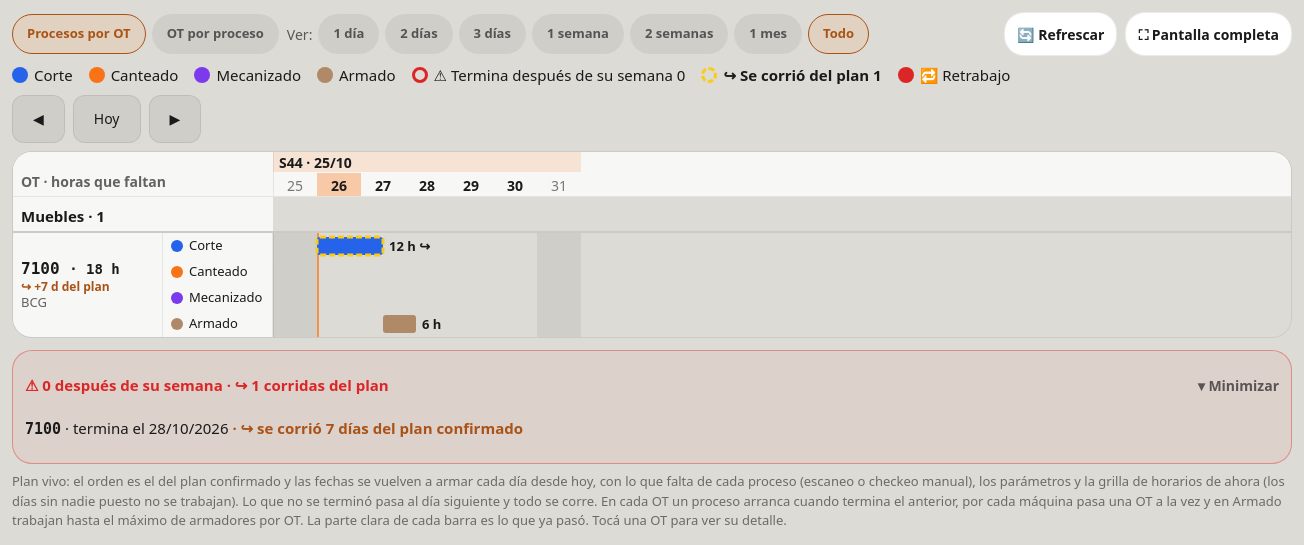
Test: 📅 Gantt — barra para moverse: Hoy, ◀ ▶ y el deslizador
Expected: the button "Hoy" is shown, left=73, top=94, right=140, bottom=142
Click the button "1 semana". click: (578, 34)
box: left=532, top=14, right=624, bottom=54
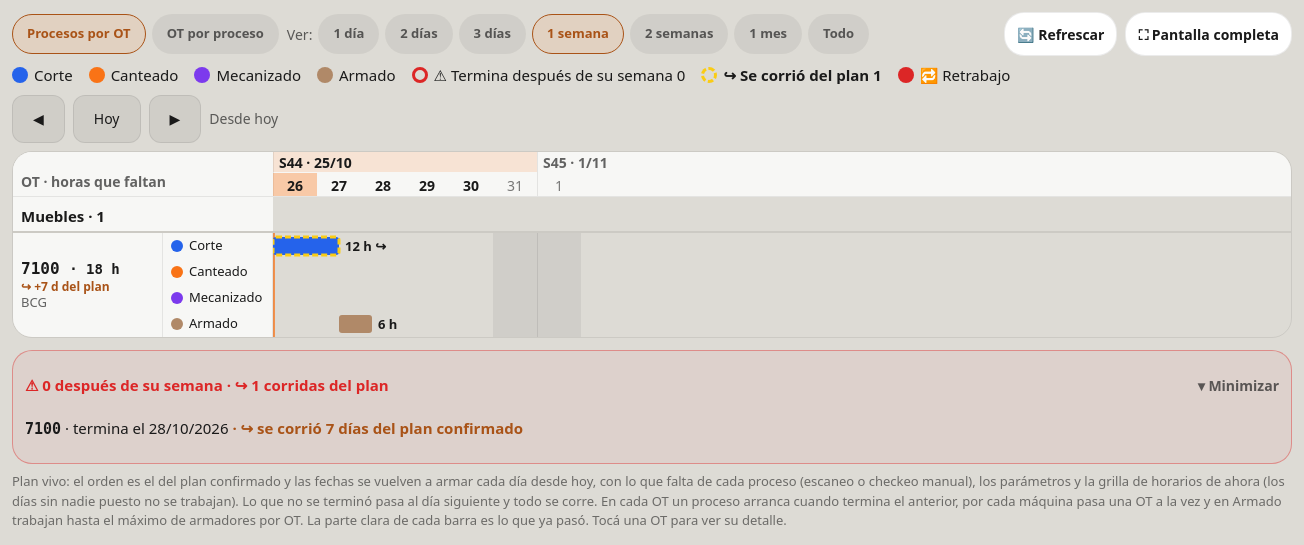
Result: the element named "Moverse en el Gantt" shows "Desde hoy" at left=209, top=109, right=278, bottom=128
Click the button named "Ver antes". click: (38, 118)
box: left=12, top=94, right=65, bottom=142
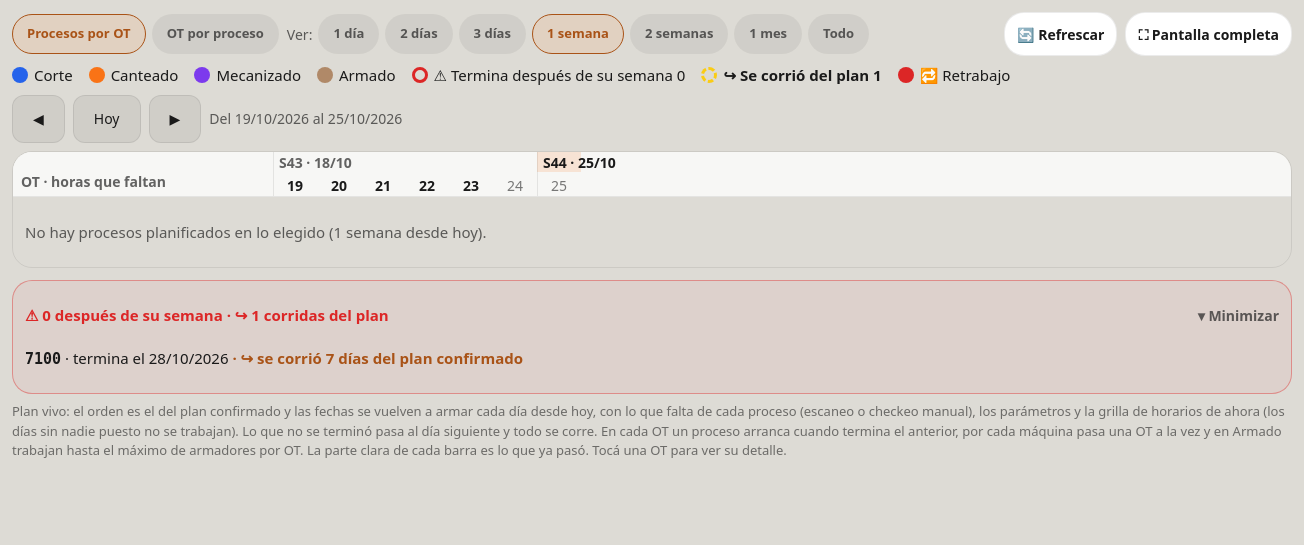
Result: the element named "Moverse en el Gantt" shows "Del 19/10/2026 al 25/10/2026" at left=209, top=109, right=402, bottom=128
Click the button "Hoy". click: (107, 118)
box: left=73, top=94, right=140, bottom=142
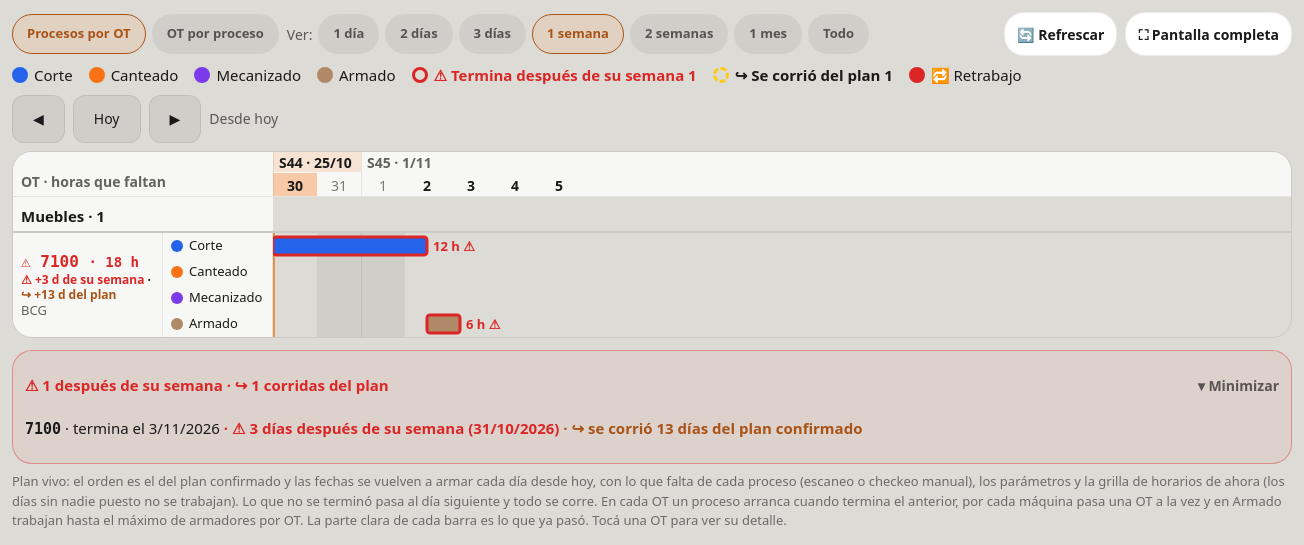
Result: the element named "Moverse en el Gantt" shows "Desde hoy" at left=209, top=109, right=278, bottom=128
